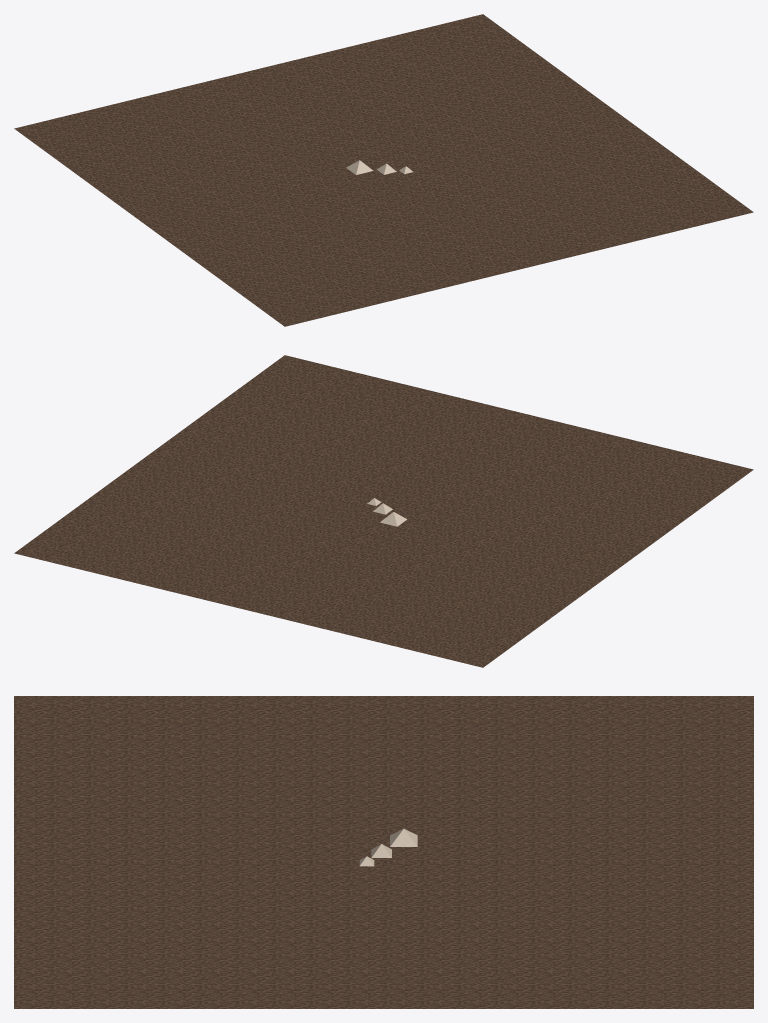
File: pyramide.glb
The picture shows the model from 3 angles, top to bottom: view 1: azimuth 30°, elevation 25°; view 2: azimuth 150°, elevation 25°; view 3: azimuth 270°, elevation 25°; orthographic projection. The views are drawn at different scales.
Parts seen in each view (by area): view 1: Cube.002; view 2: Cube.002; view 3: Cube.002.
Part boxes in pixels (x1,y1,x2,y2): Cube.002: (14, 14, 753, 326); Cube.002: (14, 355, 753, 667); Cube.002: (14, 696, 753, 1008).
Size of the model in its own units: 100 by 2 by 100.
Materials: 2 (2 with a texture image).
